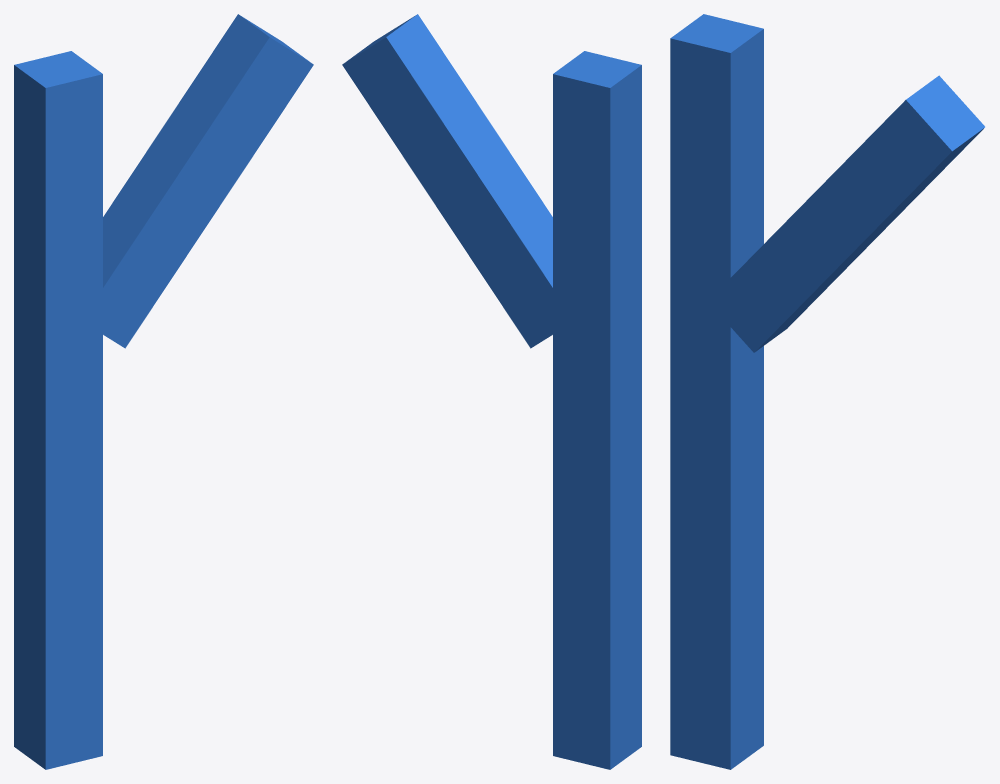
Rendered from rune08.fbx.
3 renders of one model, left to right at view 1: azimuth 30°, elevation 25°; view 2: azimuth 150°, elevation 25°; view 3: azimuth 330°, elevation 25°, orthographic. The views are drawn at different scales.
Parts seen in each view (by area): view 1: rune08; view 2: rune08; view 3: rune08.
Boxes of the visible parts, x1,y1,x2,y2 form: rune08: (14, 14, 313, 769); rune08: (342, 14, 641, 769); rune08: (670, 14, 984, 769).
Bounding box in the file's own units: 18.18 × 44.18 × 3.72.
